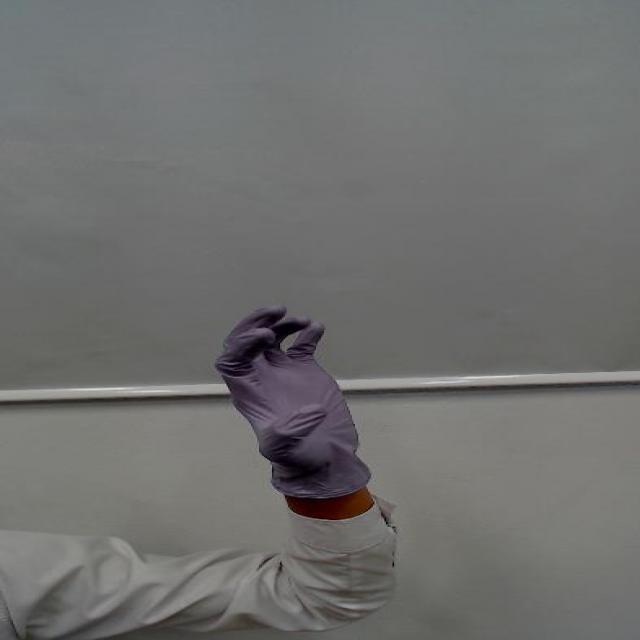with_gloves: (206, 306, 374, 464)
